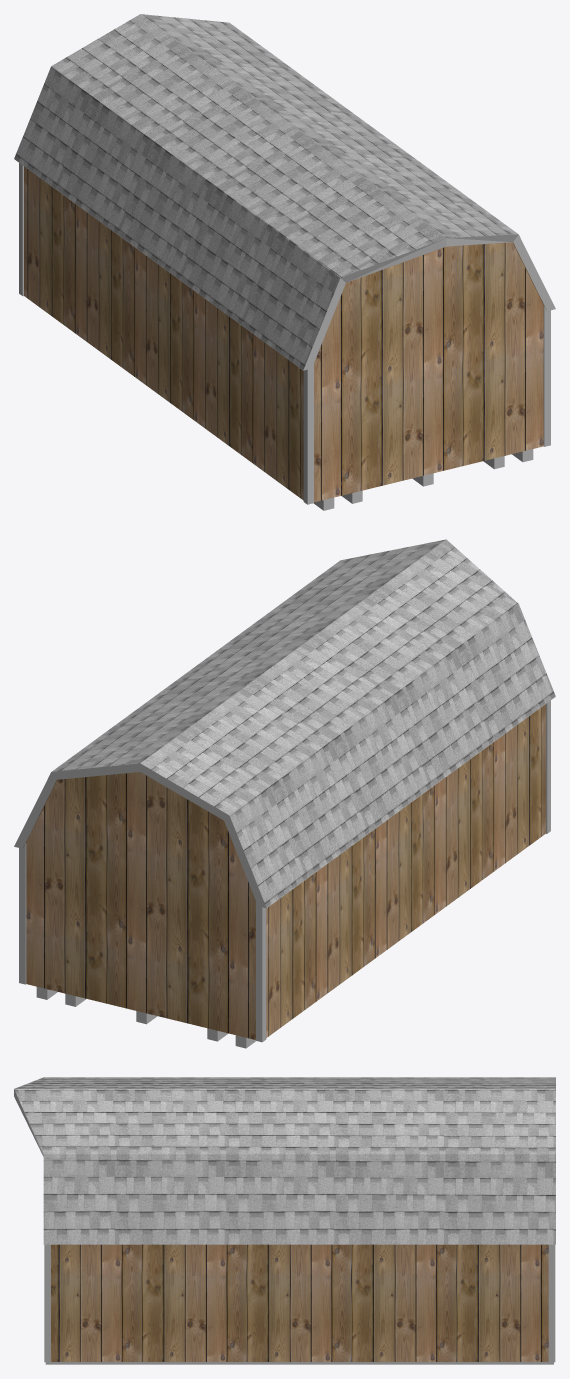
Rendered from Mini Barn Sheds_8x16.obj.
The picture shows the model from 3 angles, top to bottom: view 1: azimuth 30°, elevation 25°; view 2: azimuth 150°, elevation 25°; view 3: azimuth 270°, elevation 25°; orthographic projection. The views are drawn at different scales.
Visible parts, largest first — view 1: Roof, Shed, Trim, Sides, Floor; view 2: Roof, Shed, Trim, Sides, Floor; view 3: Roof, Shed, Trim, Floor.
Part boxes in pixels (bbox=[...]): Roof: bbox=[14, 14, 517, 370]; Shed: bbox=[24, 166, 546, 502]; Trim: bbox=[19, 163, 550, 504]; Sides: bbox=[303, 234, 555, 370]; Floor: bbox=[314, 449, 533, 510]; Roof: bbox=[52, 539, 555, 907]; Shed: bbox=[23, 704, 545, 1039]; Trim: bbox=[19, 700, 550, 1042]; Sides: bbox=[14, 763, 266, 908]; Floor: bbox=[36, 986, 255, 1048]; Roof: bbox=[14, 1077, 555, 1244]; Shed: bbox=[51, 1244, 548, 1361]; Trim: bbox=[44, 1244, 555, 1362]; Floor: bbox=[45, 1362, 553, 1364].
Size of the model in its own units: 2.48 by 2.44 by 5.2.
